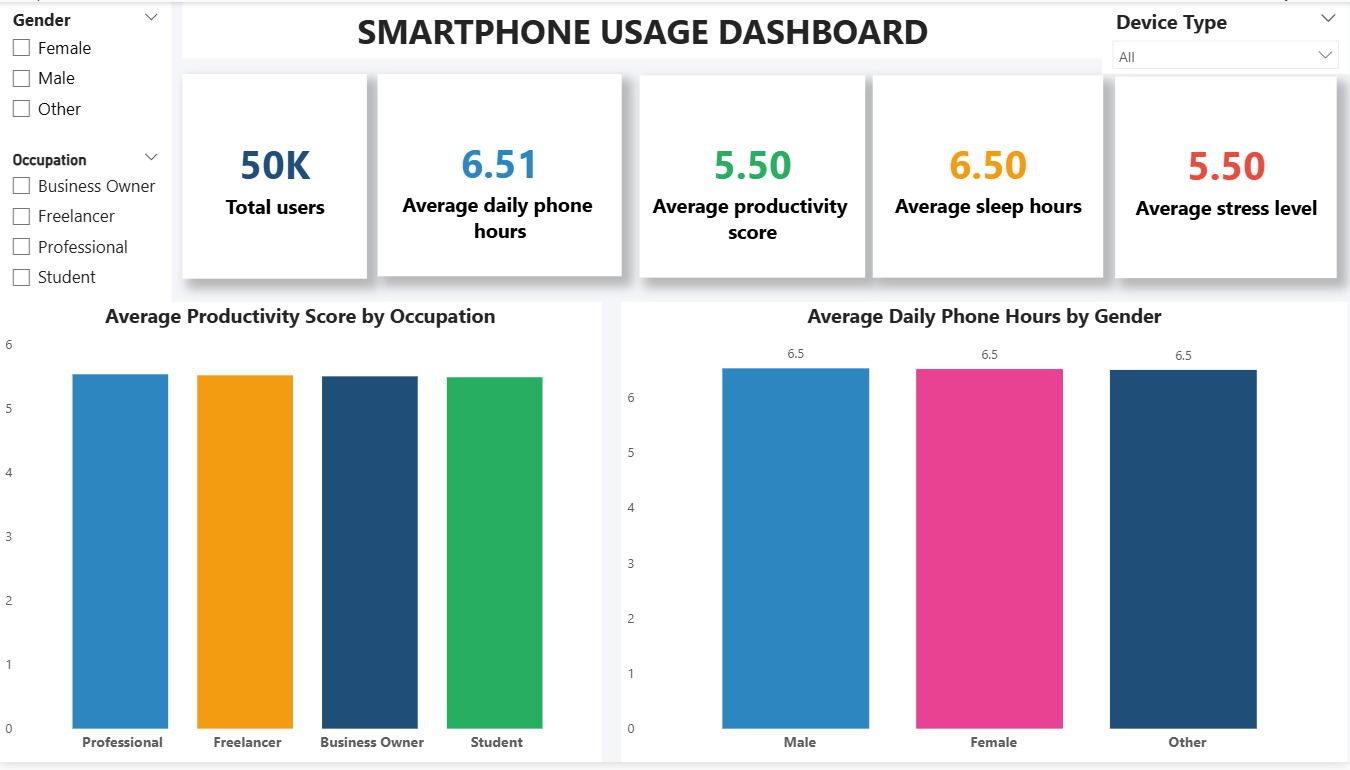

This screenshot's page, from the dashboard's own definition file:
{"tool":"powerbi","page":{"name":"Page 1","canvas":[1280,720],"ordinal":0},"visuals":[{"type":"card","fields":{"Values":["Smartphone Usage Data.Total users"]},"box":[173.3,68.1,174.7,194],"z":0},{"type":"card","fields":{"Values":["Smartphone Usage Data.Average daily phone hours"]},"box":[358.8,68.2,231.3,191.3],"z":1000},{"type":"card","fields":{"Values":["Smartphone Usage Data.Averaage productivity score"]},"box":[606.4,69.7,213.5,191.3],"z":2000},{"type":"card","fields":{"Values":["Smartphone Usage Data.Average sleep hours"]},"box":[827.3,69.7,217.9,191.3],"z":3000},{"type":"card","fields":{"Values":["Smartphone Usage Data.Average stress level"]},"box":[1057.3,71.1,210.3,191],"z":4000},{"type":"clusteredColumnChart","title":"Average Productivity Score by Occupation","fields":{"Category":["Smartphone Usage Data.Occupation"],"Y":["Smartphone Usage Data.Average productivity score"]},"box":[0,284.7,570.8,435.9],"z":5000},{"type":"columnChart","title":"Average Daily Phone Hours by Gender","fields":{"Category":["Smartphone Usage Data.Gender"],"Y":["Smartphone Usage Data.Average daily phone hours"]},"box":[590.1,284.7,687.9,435.9],"z":6000},{"type":"slicer","fields":{"Values":["Smartphone Usage Data.Gender"]},"box":[0,0,163.1,134.9],"z":7000},{"type":"slicer","fields":{"Values":["Smartphone Usage Data.Occupation"]},"box":[0,134.9,163.1,149.7],"z":8000},{"type":"slicer","fields":{"Values":["Smartphone Usage Data.Device Type"]},"box":[1045.2,0,234.2,68.2],"z":9000},{"type":"textbox","box":[173.3,0,872.2,53.3],"z":9001}]}

Visuals, with their boxes on the page's 1280x720 design canvas (x1, y1, x2, y2). These are canvas units, not pixel positions in the 1350x770 screenshot, which may show the page scaled, cropped or inside an application window:
card - Smartphone Usage Data.Total users: 173, 68, 348, 262
card - Smartphone Usage Data.Average daily phone hours: 359, 68, 590, 260
card - Smartphone Usage Data.Averaage productivity score: 606, 70, 820, 261
card - Smartphone Usage Data.Average sleep hours: 827, 70, 1045, 261
card - Smartphone Usage Data.Average stress level: 1057, 71, 1268, 262
"Average Productivity Score by Occupation" clusteredColumnChart: 0, 285, 571, 721
"Average Daily Phone Hours by Gender" columnChart: 590, 285, 1278, 721
slicer - Smartphone Usage Data.Gender: 0, 0, 163, 135
slicer - Smartphone Usage Data.Occupation: 0, 135, 163, 285
slicer - Smartphone Usage Data.Device Type: 1045, 0, 1279, 68
textbox: 173, 0, 1046, 53
